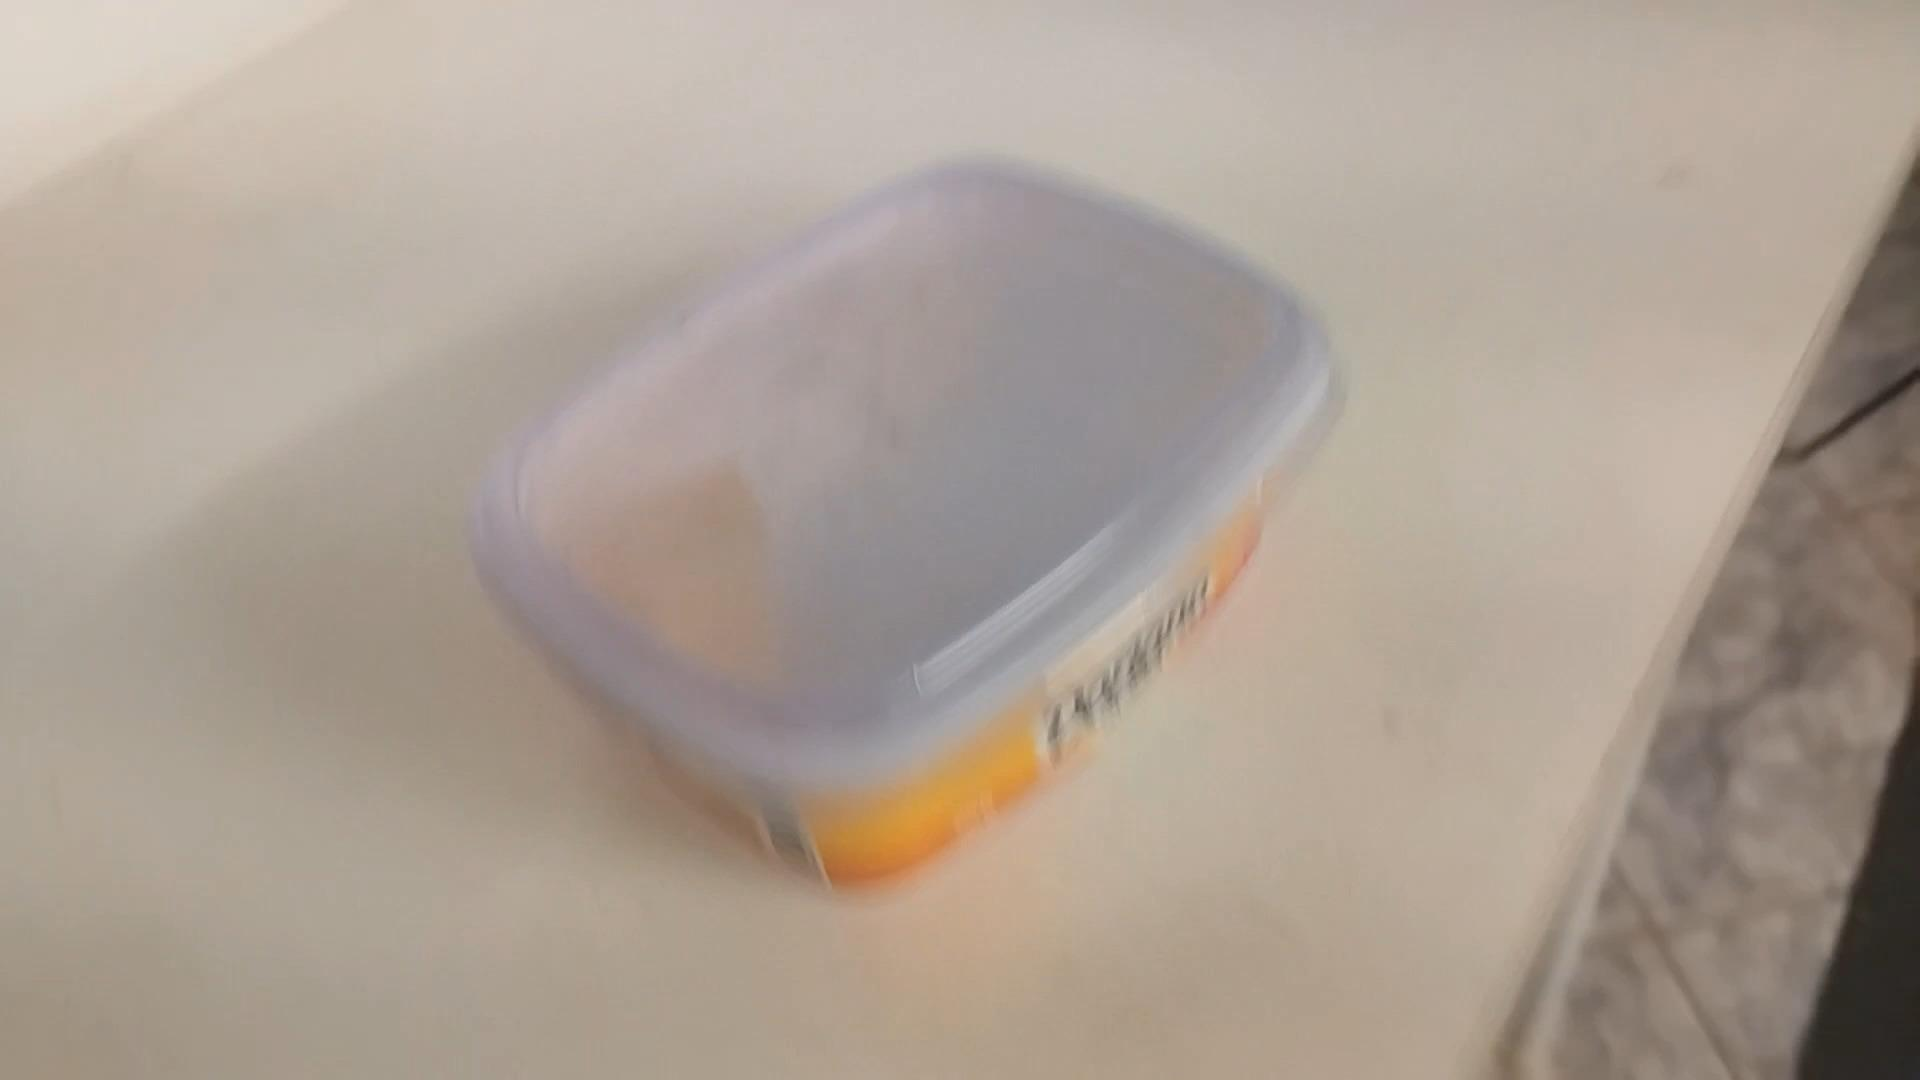butter: (464, 161, 1342, 903)
